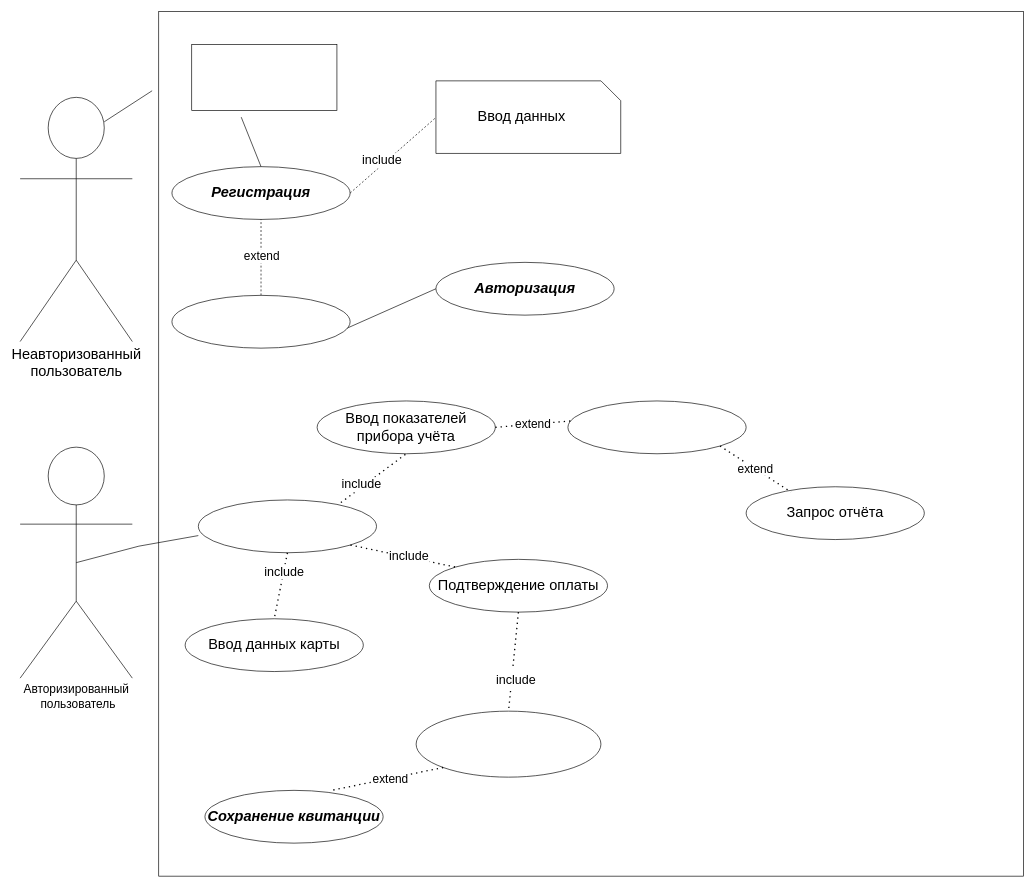
This 1035x888 diagram has some shape labels left out. Here are the shapes that lost their labels. From the top down, the box of each, then its label:
(191, 44, 337, 111): Установка программы
(171, 295, 350, 348): Прикрепление банковской карты
(567, 400, 746, 454): Выбор периода оплаты
(198, 499, 377, 553): Оплата электроэнергии
(415, 710, 601, 777): Генерация квитанции об оплате
